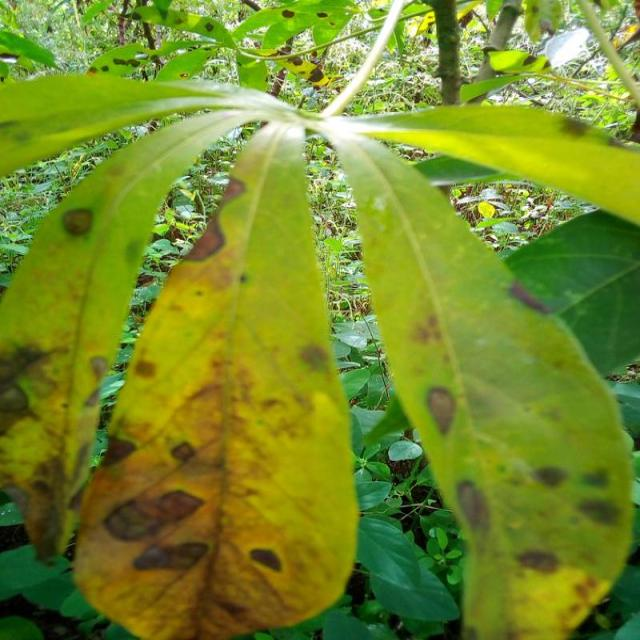cassava leaf: (333, 121, 635, 638), (70, 115, 360, 638)
